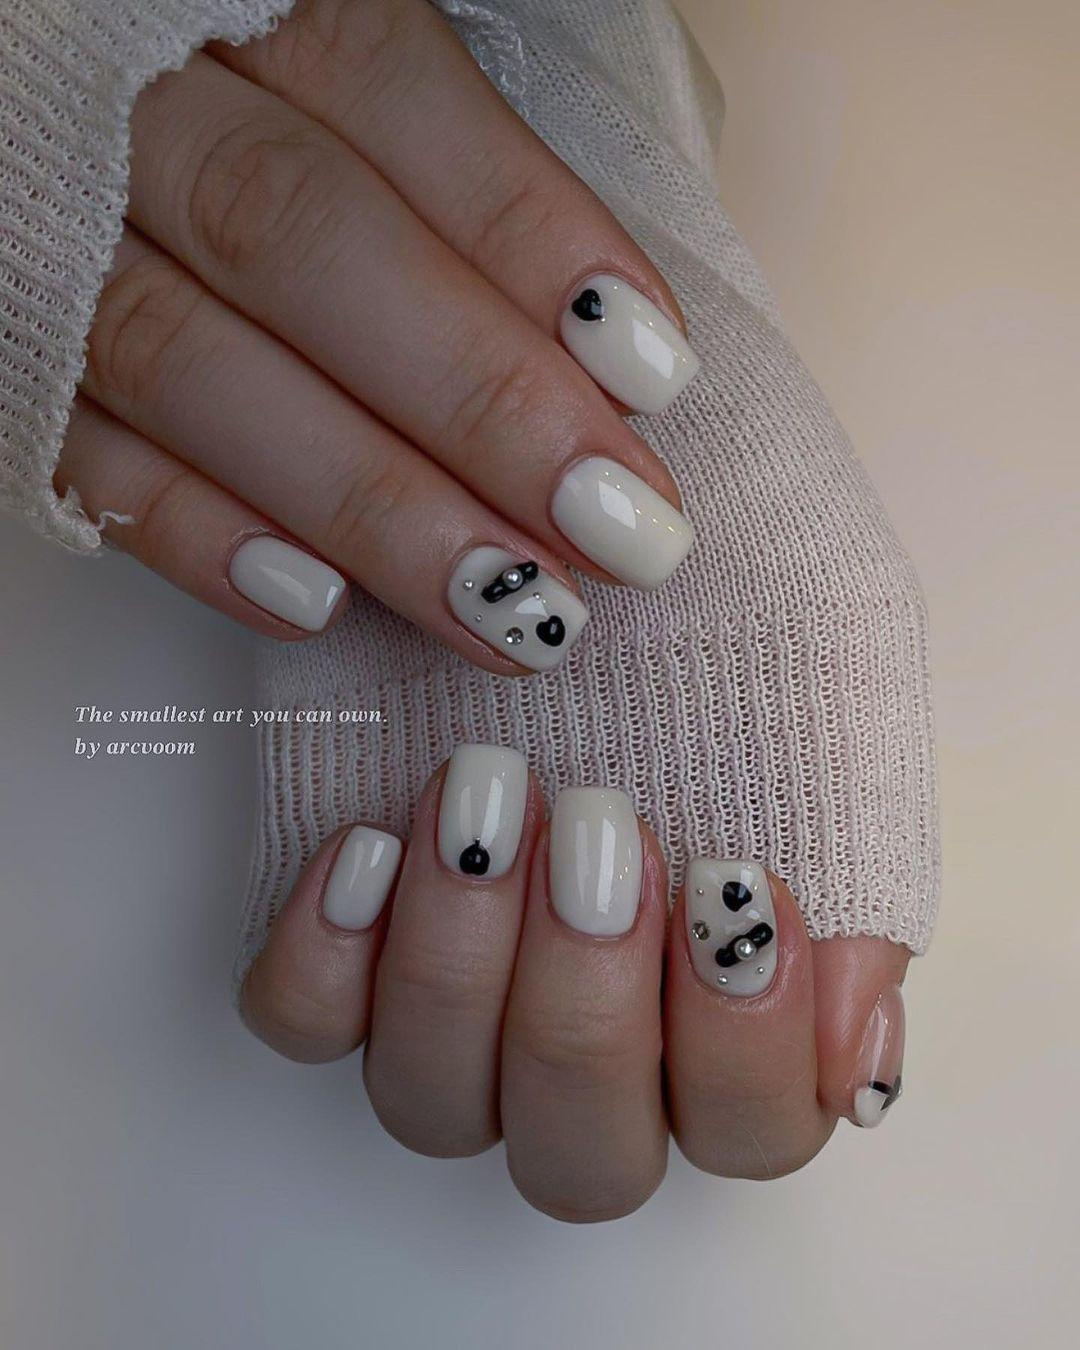nail: (557, 268, 701, 415), (547, 451, 694, 591), (449, 548, 588, 672), (546, 784, 642, 938), (682, 855, 779, 998), (434, 742, 528, 881), (224, 530, 348, 634), (317, 822, 402, 933), (847, 983, 906, 1128)
